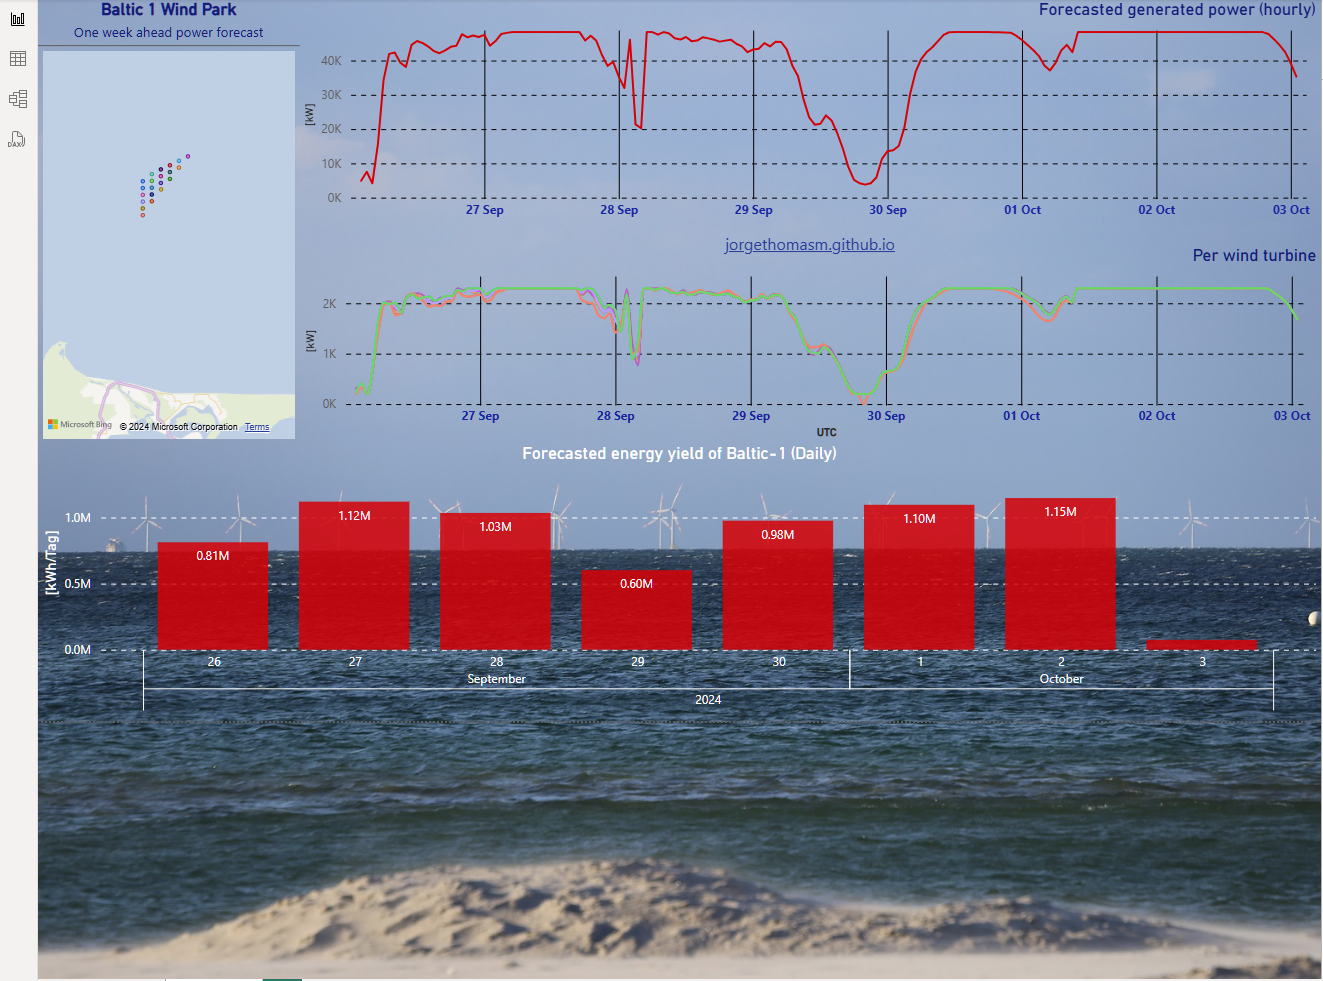

Layout of this report page (visuals, bound fields, positions):
{"tool":"powerbi","page":{"name":"E-Forecast","canvas":[1280,720],"ordinal":0},"visuals":[{"type":"map","title":"Baltic 1 Wind Park","fields":{"Y":["Baltic-1_wt_geoloc. latitude"],"X":["Baltic-1_wt_geoloc. longitude"],"Series":["p_out.id"]},"box":[10.1,0,411.5,719.7],"z":0},{"type":"lineChart","title":"FORECAST","fields":{"Category":["p_out.time"],"Series":["p_out.id"],"Y":["Sum(p_out.output_kW)"]},"box":[421.5,434.3,858.5,285.5],"z":1000},{"type":"lineChart","title":"Sum","fields":{"Category":["p_out.time"],"Y":["Sum(p_out.output_kW)"]},"box":[416.8,215.8,858.5,227.9],"z":2000},{"type":"clusteredColumnChart","fields":{"Category":["p_out.day"],"Y":["Sum(p_out.output_kW)"]},"box":[422.2,0,857.8,215.8],"z":2001}]}

Visuals, with their boxes on the page's 1280x720 design canvas (x1, y1, x2, y2). These are canvas units, not pixel positions in the 1323x981 screenshot, which may show the page scaled, cropped or inside an application window:
"Baltic 1 Wind Park" map: 10 0 422 720
"FORECAST" lineChart: 422 434 1280 720
"Sum" lineChart: 417 216 1275 444
clusteredColumnChart - p_out.day x Sum(p_out.output_kW): 422 0 1280 216
